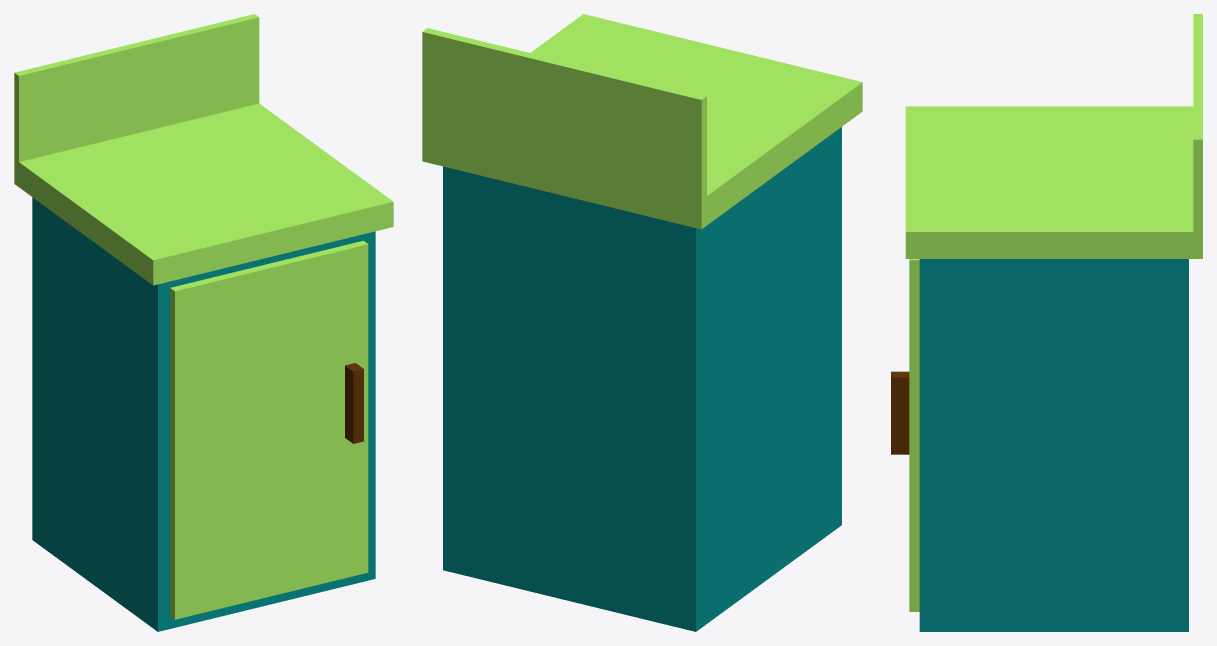
File: Cabinet.fbx
3 views of the same model, side by side, from view 1: azimuth 30°, elevation 25°; view 2: azimuth 150°, elevation 25°; view 3: azimuth 270°, elevation 25° (orthographic). The views are drawn at different scales.
Parts seen in each view (by area): view 1: Model; view 2: Model; view 3: Model.
Boxes of the visible parts, x1=… form: Model: x1=14, y1=14, x2=393, y2=631; Model: x1=422, y1=14, x2=862, y2=631; Model: x1=891, y1=14, x2=1202, y2=631.
Bounding box in the file's own units: 1204 × 2227 × 1264.
